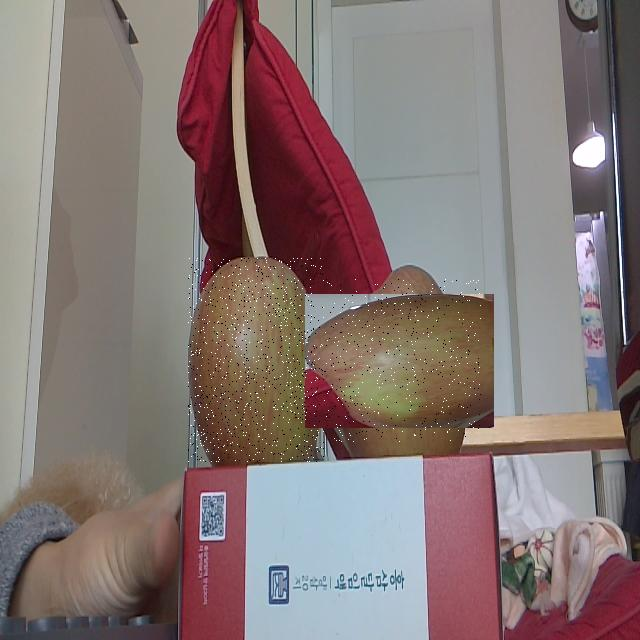apple: (188, 258, 324, 462), (318, 279, 481, 442)
